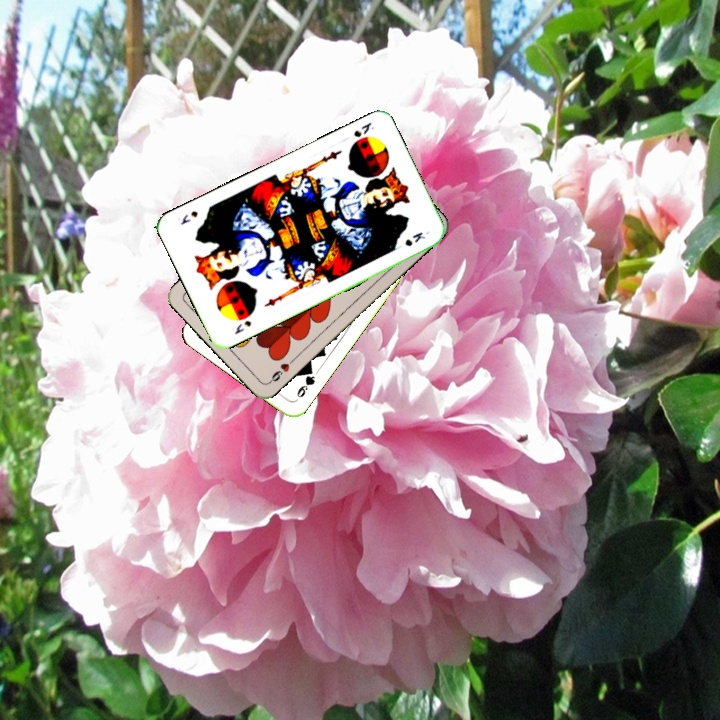G9: (291, 365, 318, 403)
H9: (265, 354, 298, 386)
SK: (350, 118, 377, 140), (230, 316, 254, 337)
